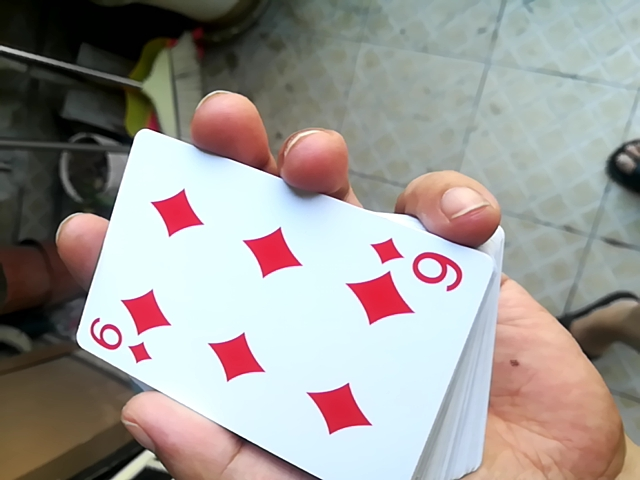fk 6: (70, 123, 493, 477)
